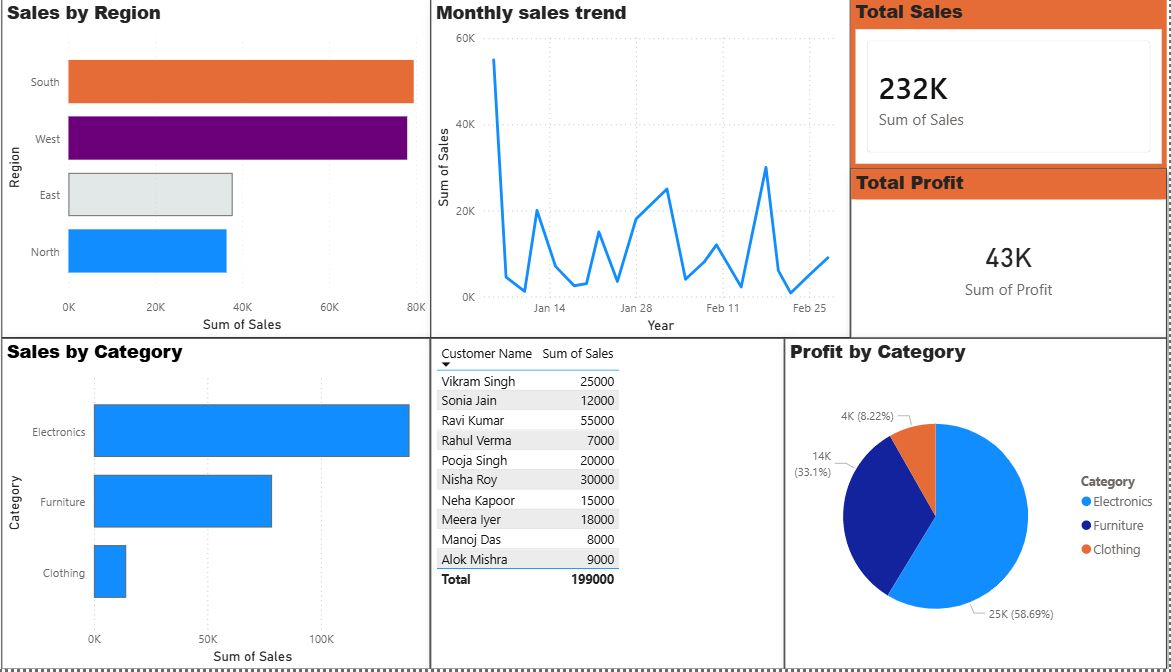

Layout of this report page (visuals, bound fields, positions):
{"tool":"powerbi","page":{"name":"Page 1","canvas":[1280,720],"ordinal":0},"visuals":[{"type":"barChart","title":"Sales by Category","fields":{"Category":["Orders.Category"],"Y":["Sum(Orders.Sales)"]},"box":[9.4,0,291,289.1],"z":0},{"type":"clusteredColumnChart","title":"Product Sales and Profit analasis","fields":{"Category":["Orders.Product Name"],"Y":["Sum(Orders.Sales)","Sum(Orders.Profit)"]},"box":[9.4,289.1,430.9,281.6],"z":1000},{"type":"cardVisual","title":"Total sales","fields":{"Data":["Sum(Orders.Sales)"]},"box":[9.4,570.7,631.2,149.3],"z":2000},{"type":"lineChart","title":"Sales and  Profit by Year","fields":{"Category":["Orders.Order Date.Variation.Date Hierarchy.Year","Orders.Order Date.Variation.Date Hierarchy.Month"],"Y":["Sum(Orders.Sales)","Sum(Orders.Profit)"]},"box":[300.5,0,332.6,279.7],"z":3000},{"type":"columnChart","title":"Sales by Year","fields":{"Category":["Orders.Order Date.Variation.Date Hierarchy.Year","Orders.Order Date.Variation.Date Hierarchy.Month"],"Y":["Sum(Orders.Sales)"]},"box":[440.3,287.2,332.6,281.6],"z":4000},{"type":"cardVisual","title":"Total Profit","fields":{"Data":["Sum(Orders.Profit)"]},"box":[640.6,570.7,631.2,149.3],"z":5000},{"type":"pieChart","title":"Total Profit  Sales","fields":{"Y":["Sum(Orders.Profit)","Sum(Orders.Sales)"]},"box":[633.1,5.7,323.2,283.5],"z":6000},{"type":"lineClusteredColumnComboChart","title":"Su Sales and Profit by Region","fields":{"Category":["Orders.Region"],"Y":["Sum(Orders.Sales)","Sum(Orders.Profit)"]},"box":[772.9,289.1,495.1,279.7],"z":7000},{"type":"lineStackedColumnComboChart","title":"Quantity by Product Name","fields":{"Category":["Orders.Product Name"],"Y":["Sum(Orders.Quantity)"]},"box":[956.2,0,323.2,289.1],"z":8000},{"type":"cardVisual","box":[1254.8,570.7,13.2,149.3],"z":9000}]}

Visuals, with their boxes in screenshot pixels (x1, y1, x2, y2), scaled from the page's 1280x720 canvas onto the 1171x672 screenshot:
"Sales by Category" barChart: (x1=9, y1=0, x2=275, y2=270)
"Product Sales and Profit analasis" clusteredColumnChart: (x1=9, y1=270, x2=403, y2=533)
"Total sales" cardVisual: (x1=9, y1=533, x2=586, y2=671)
"Sales and  Profit by Year" lineChart: (x1=275, y1=0, x2=579, y2=261)
"Sales by Year" columnChart: (x1=403, y1=268, x2=707, y2=531)
"Total Profit" cardVisual: (x1=586, y1=533, x2=1163, y2=671)
"Total Profit  Sales" pieChart: (x1=579, y1=5, x2=875, y2=270)
"Su Sales and Profit by Region" lineClusteredColumnComboChart: (x1=707, y1=270, x2=1160, y2=531)
"Quantity by Product Name" lineStackedColumnComboChart: (x1=875, y1=0, x2=1170, y2=270)
cardVisual: (x1=1148, y1=533, x2=1160, y2=671)
